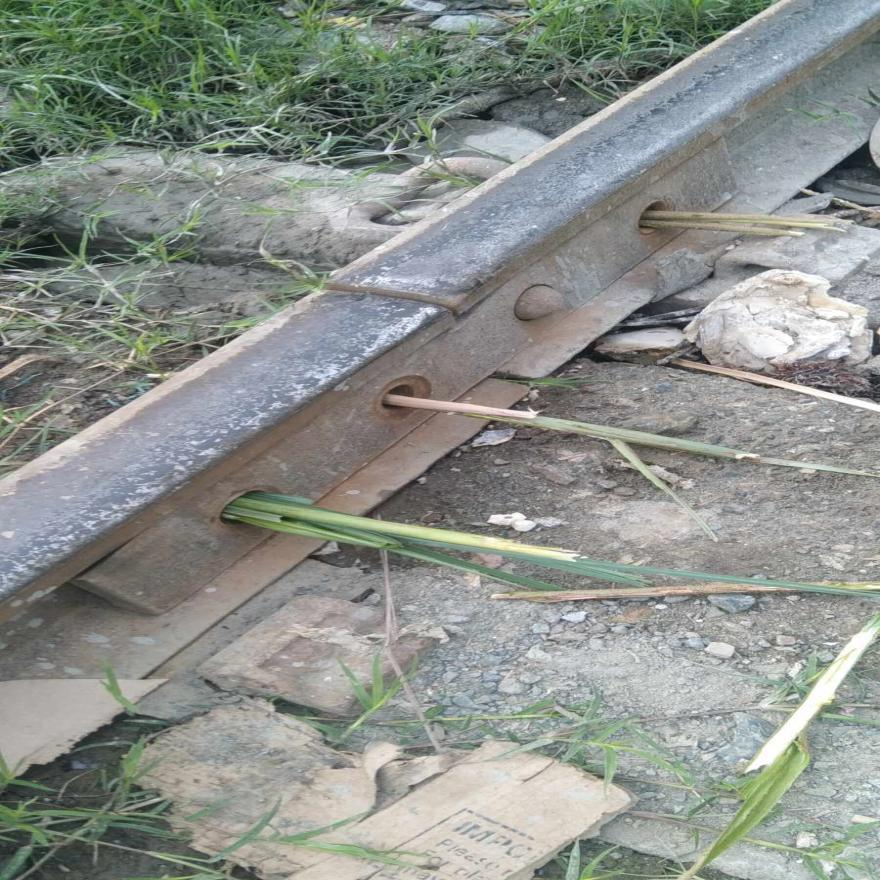railway-gap: (219, 214, 553, 377)
